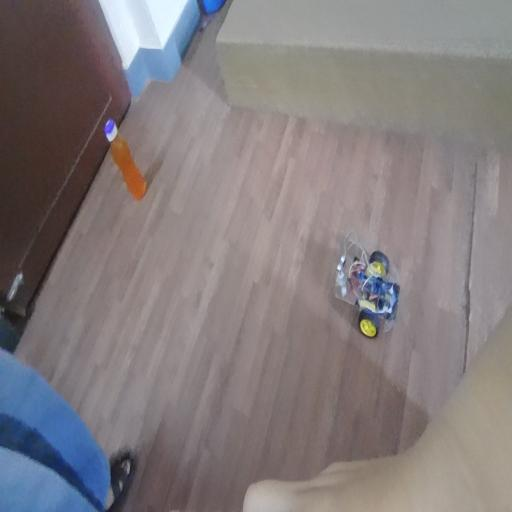Bottle: (99, 115, 156, 210)
car: (320, 210, 406, 363)
